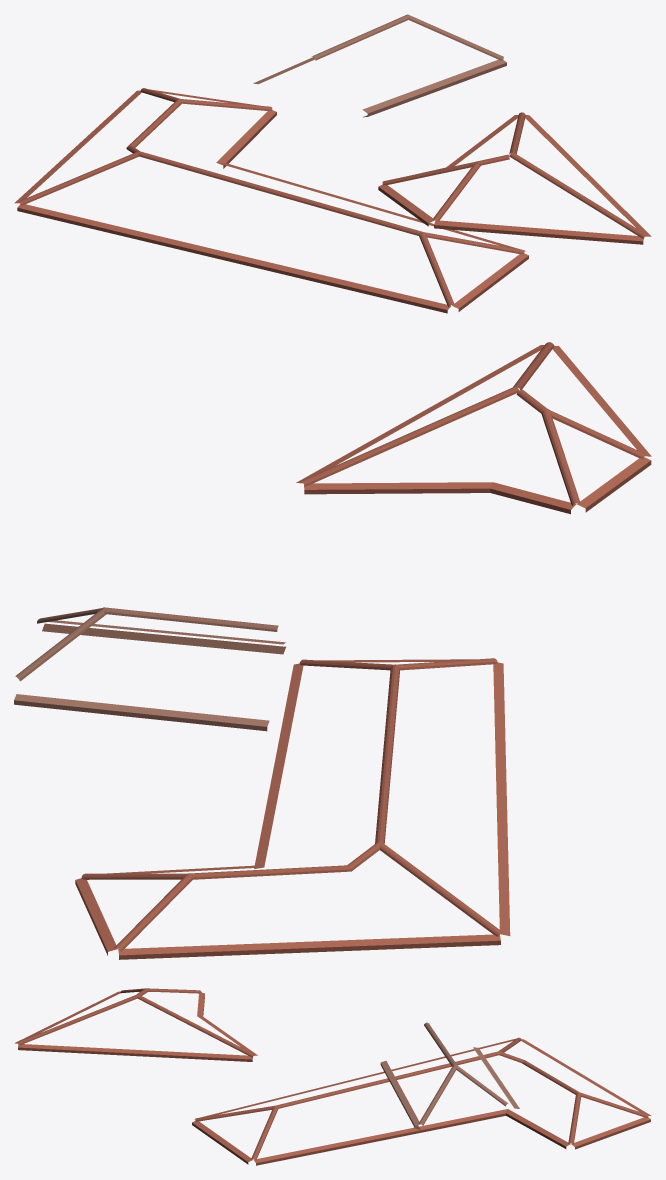
The picture shows the model from 3 angles, top to bottom: view 1: azimuth 30°, elevation 25°; view 2: azimuth 150°, elevation 25°; view 3: azimuth 270°, elevation 25°; orthographic projection. The views are drawn at different scales.
Parts seen in each view (by area): view 1: detail; view 2: detail; view 3: detail.
Boxes of the visible parts, <box> form: detail: <box>14,14,651,313</box>; detail: <box>14,342,651,959</box>; detail: <box>14,988,651,1165</box>.
Bounding box in the file's own units: 19.77 × 8.2 × 34.04.
